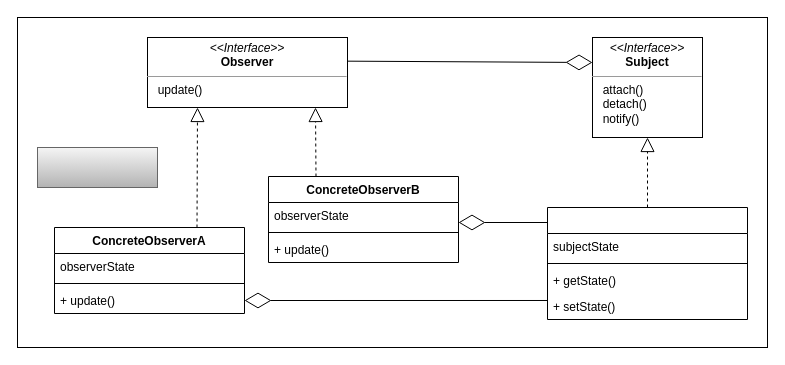
Some shapes in this 785 by 365 pixel diagram are drawn without their labels. Each missing label, with the box of its shape:
ConcreteSubject: (546, 206, 748, 320)
Observer: (36, 146, 158, 188)
